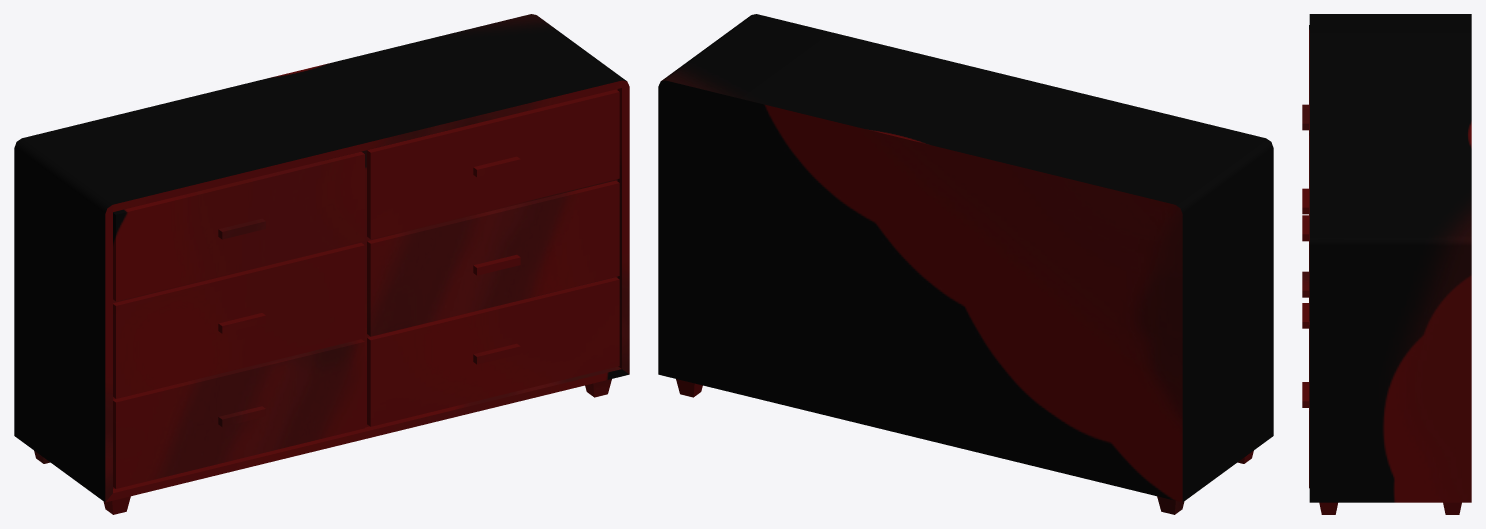
3 renders of one model, left to right at view 1: azimuth 30°, elevation 25°; view 2: azimuth 150°, elevation 25°; view 3: azimuth 270°, elevation 25°, orthographic. The views are drawn at different scales.
Parts seen in each view (by area): view 1: Dresser; view 2: Dresser; view 3: Dresser.
Boxes of the visible parts, bbox=[...] form: Dresser: bbox=[14, 14, 629, 514]; Dresser: bbox=[658, 14, 1273, 514]; Dresser: bbox=[1302, 14, 1471, 514].
Bounding box in the file's own units: 2.18 × 1.26 × 0.6834.
